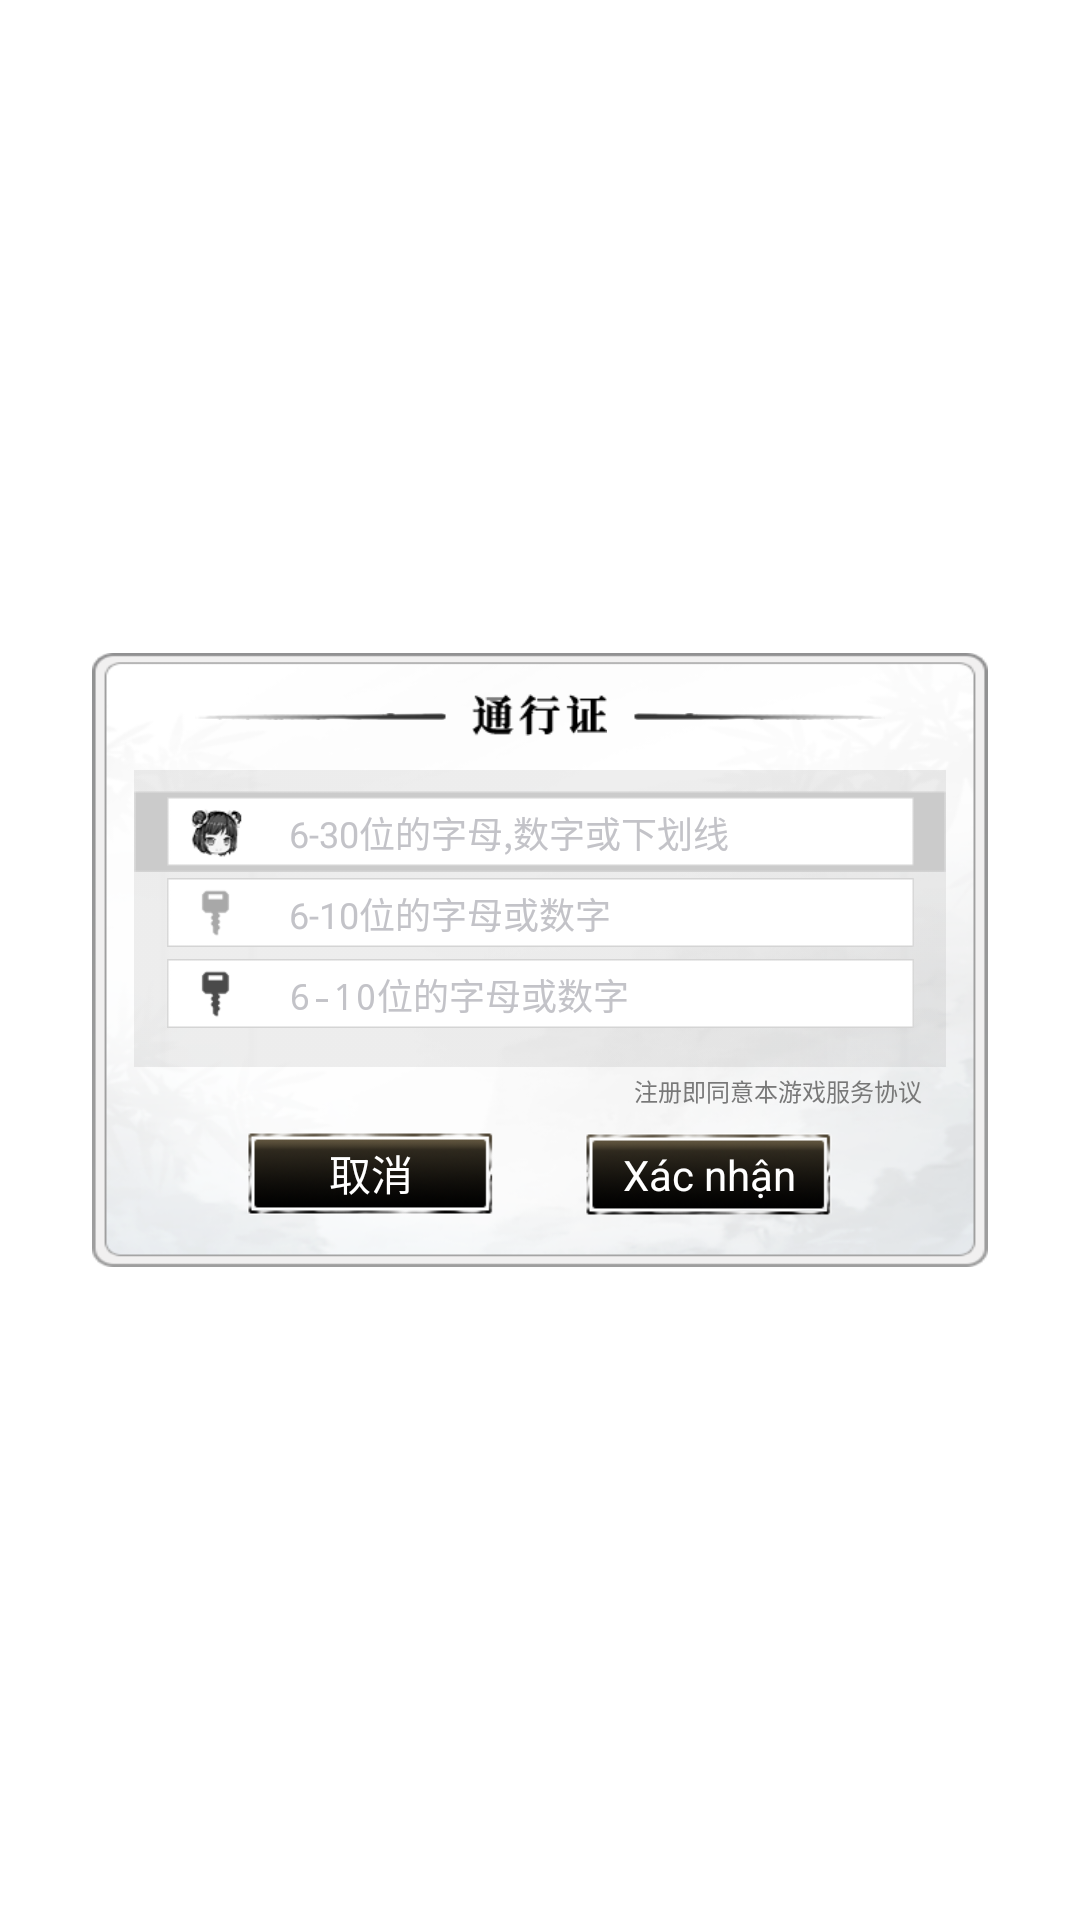

Named icons in this screenshot (1080*1920) and their bounding boxes, (x1, y1, x2, y2):
sdk yaoshi: (202, 971, 229, 1017)
sdk yaoshi hui: (202, 891, 229, 935)
